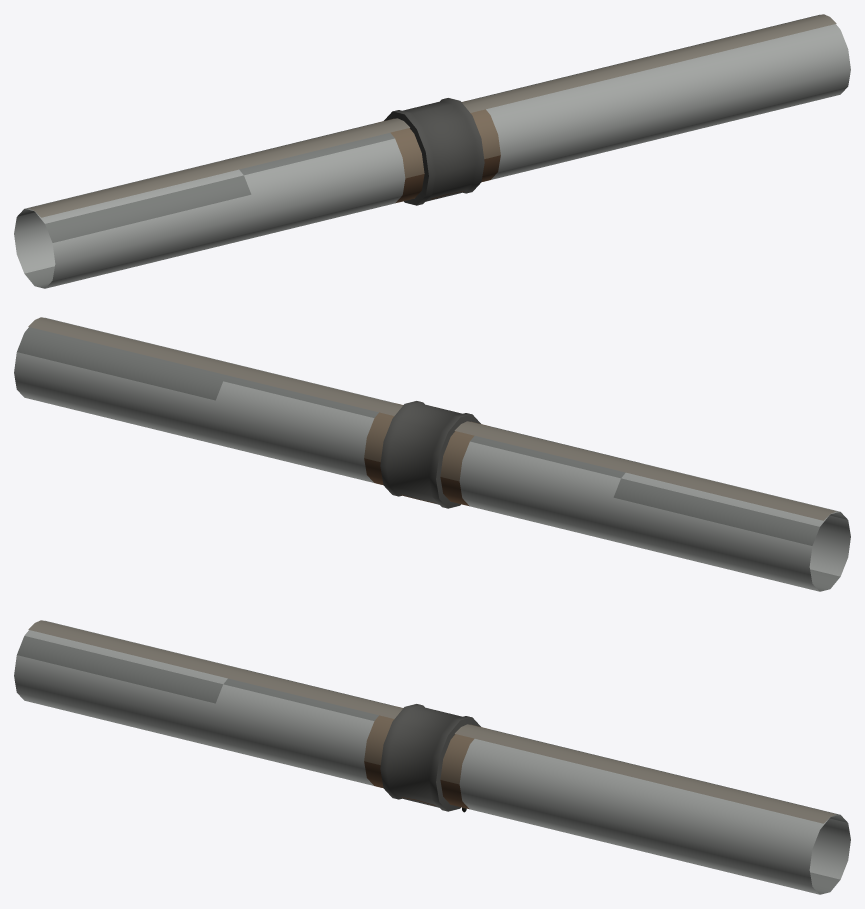
File: pipe_run@2.glb
3 renders of one model, top to bottom at view 1: azimuth 30°, elevation 25°; view 2: azimuth 150°, elevation 25°; view 3: azimuth 330°, elevation 25°, orthographic.
Parts seen in each view (by area): view 1: pipe0, pipe6, pipe1, pipe4, pipe2, pipe3; view 2: pipe0, pipe1, pipe6, pipe4, pipe2, pipe3; view 3: pipe0, pipe6, pipe1, pipe4, pipe2, pipe3.
Part boxes in pixels (box(x1,y1,x2,y2)): pipe0: box(14, 24, 850, 288); pipe6: box(28, 14, 836, 217); pipe1: box(17, 14, 820, 288); pipe4: box(384, 98, 484, 205); pipe2: box(375, 100, 500, 178); pipe3: box(395, 155, 500, 203); pipe0: box(14, 317, 850, 591); pipe1: box(17, 327, 847, 591); pipe6: box(28, 317, 836, 520); pipe4: box(380, 401, 480, 508); pipe2: box(364, 403, 489, 481); pipe3: box(364, 458, 469, 506); pipe0: box(14, 620, 850, 894); pipe6: box(28, 620, 836, 823); pipe1: box(17, 636, 847, 894); pipe4: box(380, 704, 480, 811); pipe2: box(364, 706, 489, 784); pipe3: box(364, 761, 469, 809).
Bounding box in the file's own units: 1 × 0.1095 × 0.106.
